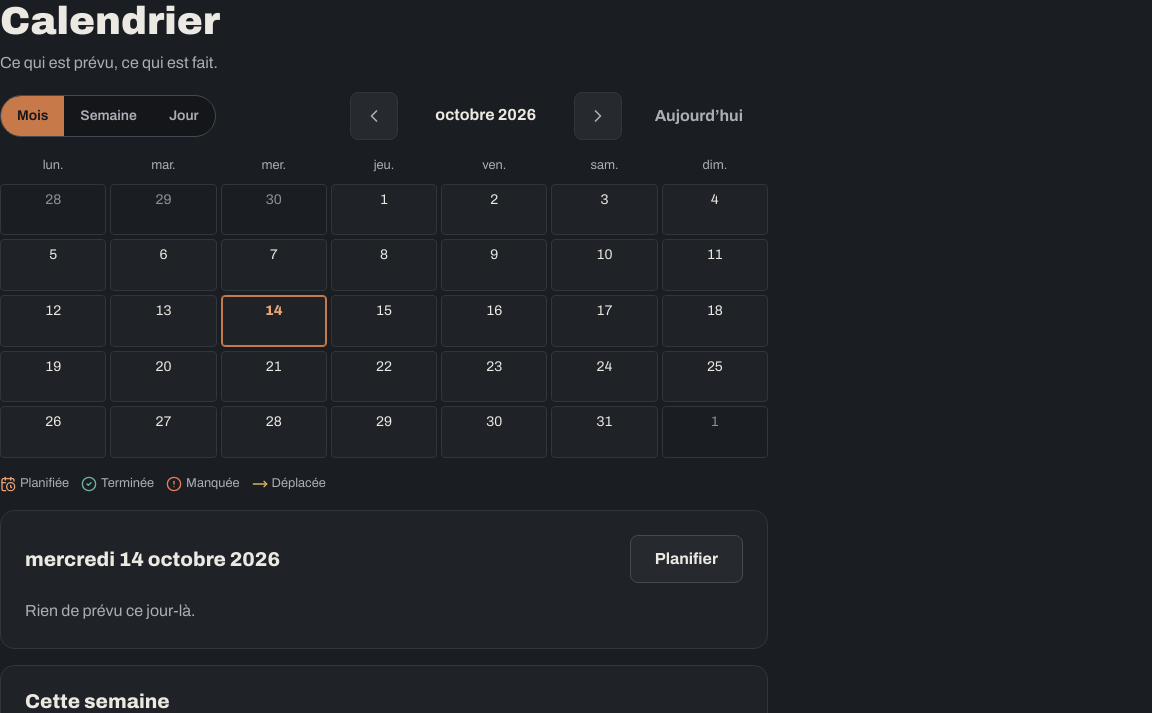
planification depuis le calendrier › planifie une séance au jour choisi
Expected: the 1st button with class "cell" is shown, [0,184,106,235]
Click the button "Planifier" at [686, 559], box [630,535,743,583]
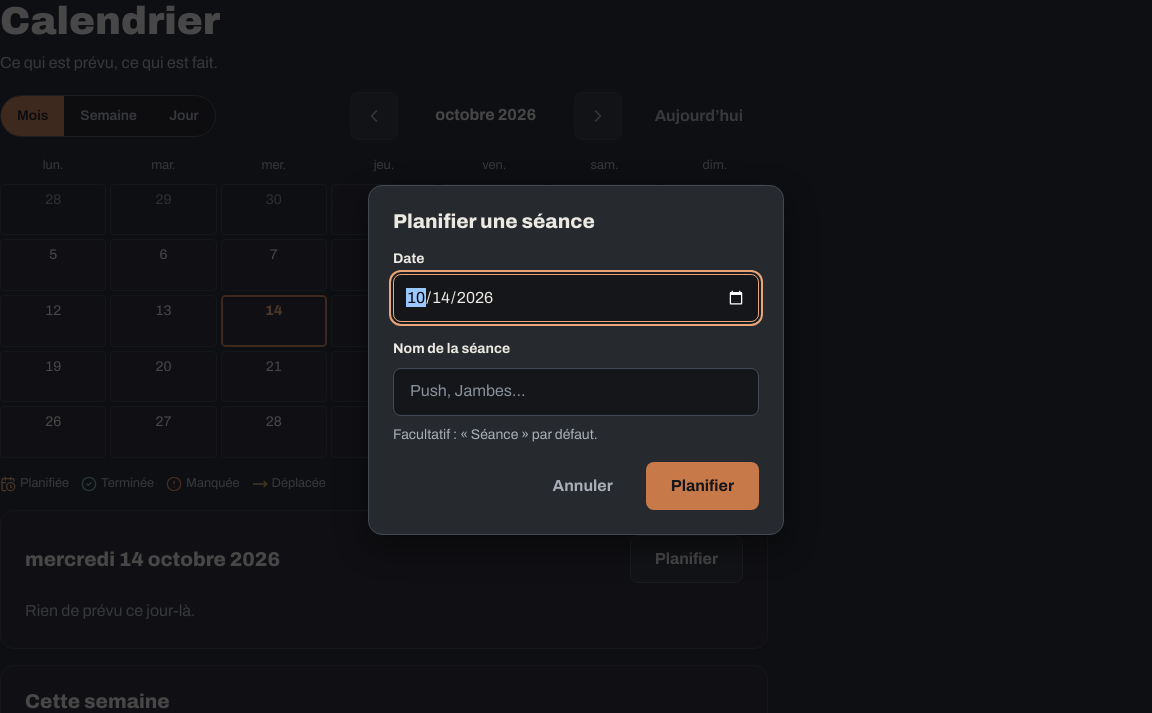
Expected: the dialog is shown, [368,186,784,535]
Type "2026-10-20" into the date field labelled "Date" at [576, 298], box [393,274,759,322]
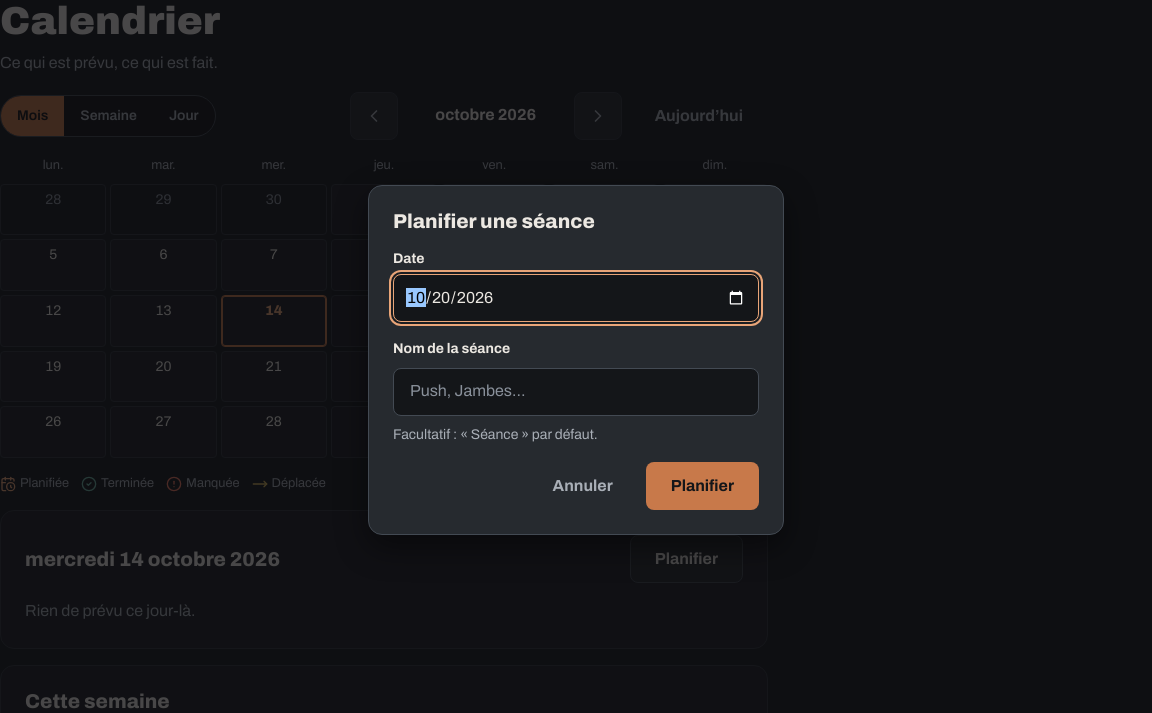
Expected: the dialog is shown, [368,186,784,535]
Type "Jambes" into the field labelled "Nom de la séance" at [576, 392], box [393,368,759,416]
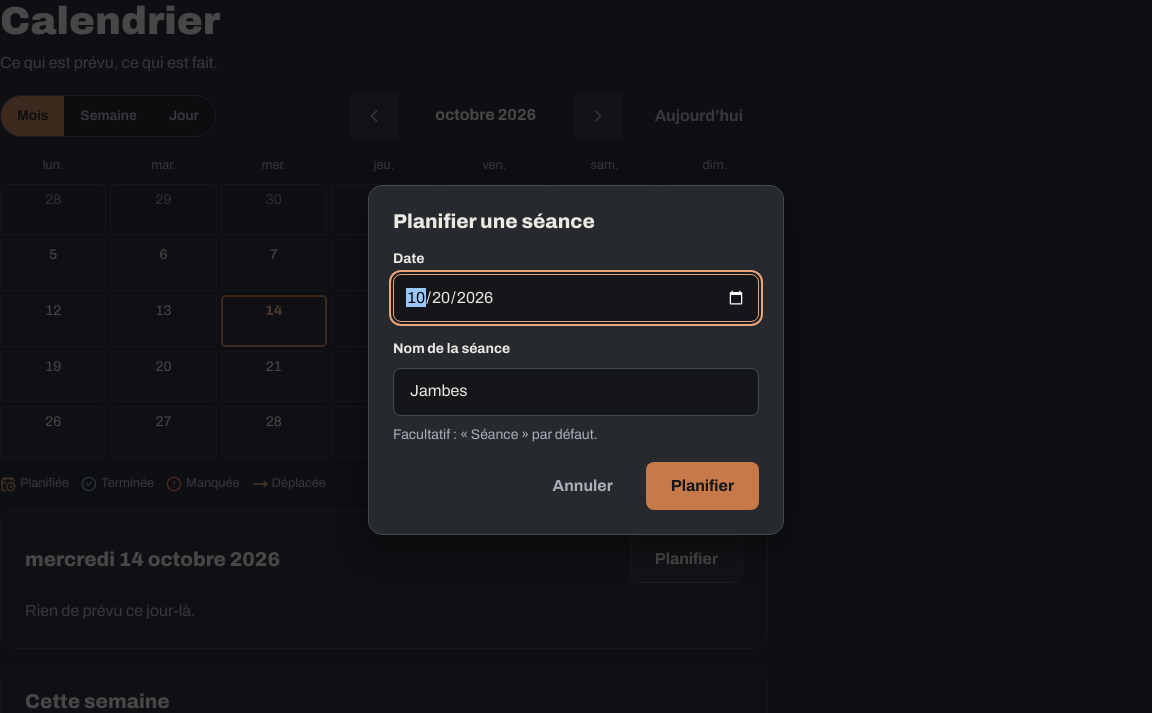
Expected: the dialog is shown, [368,186,784,535]
Click the button "Planifier" at [702, 486], box [646,462,759,510]
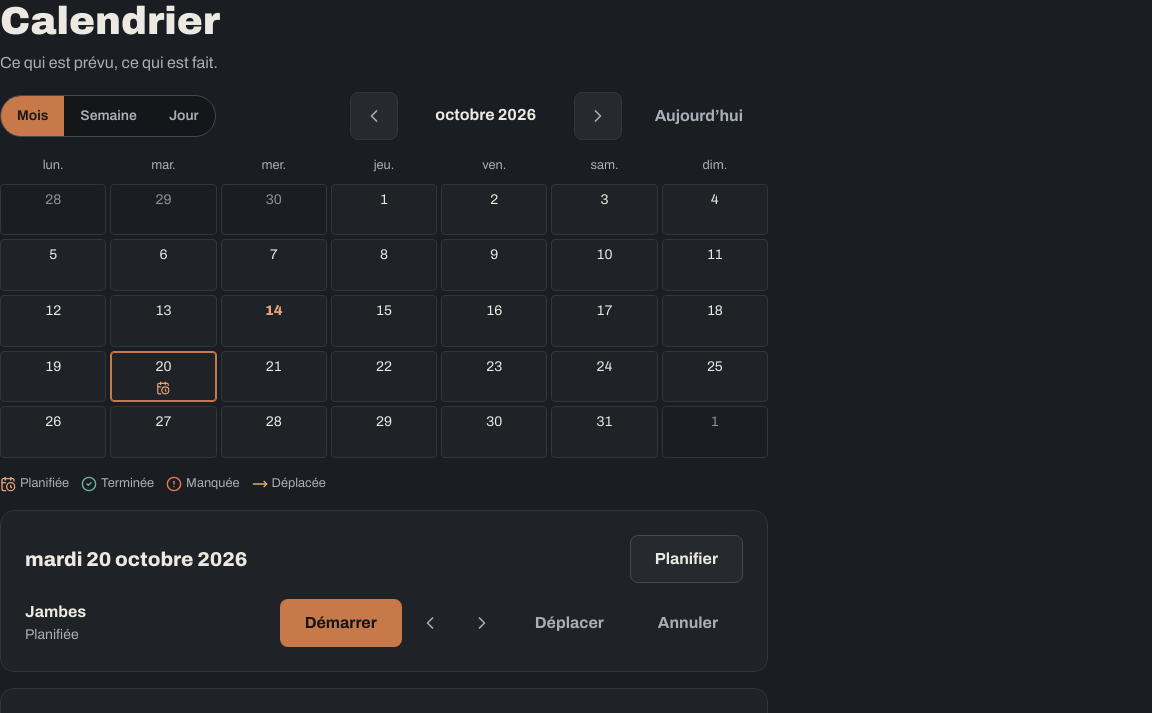
Expected: the text with class "day__title" reads "Jambes", [25,603,86,620]
